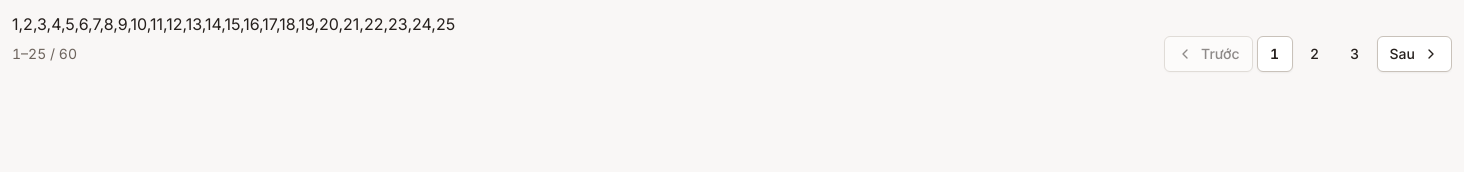
Test: usePagination with Pagination › pages through a list 25 rows at a time
Expected: the text "1–25 / 60" is shown, x1=12 y1=43 x2=77 y2=65
What coordinates should you click on to do the following:
click the button named "Trang 3"
I would click on:
 (1355, 54)
Its box is x1=1337 y1=36 x2=1373 y2=72.
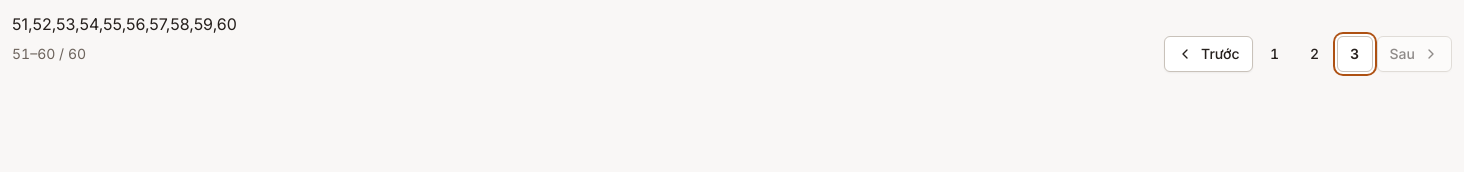
Result: the text with test id "rows" reads "51,52,53,54,55,56,57,58,59,60" at x1=12 y1=14 x2=237 y2=34
Result: the button "Sau" is disabled at x1=1377 y1=36 x2=1452 y2=72
